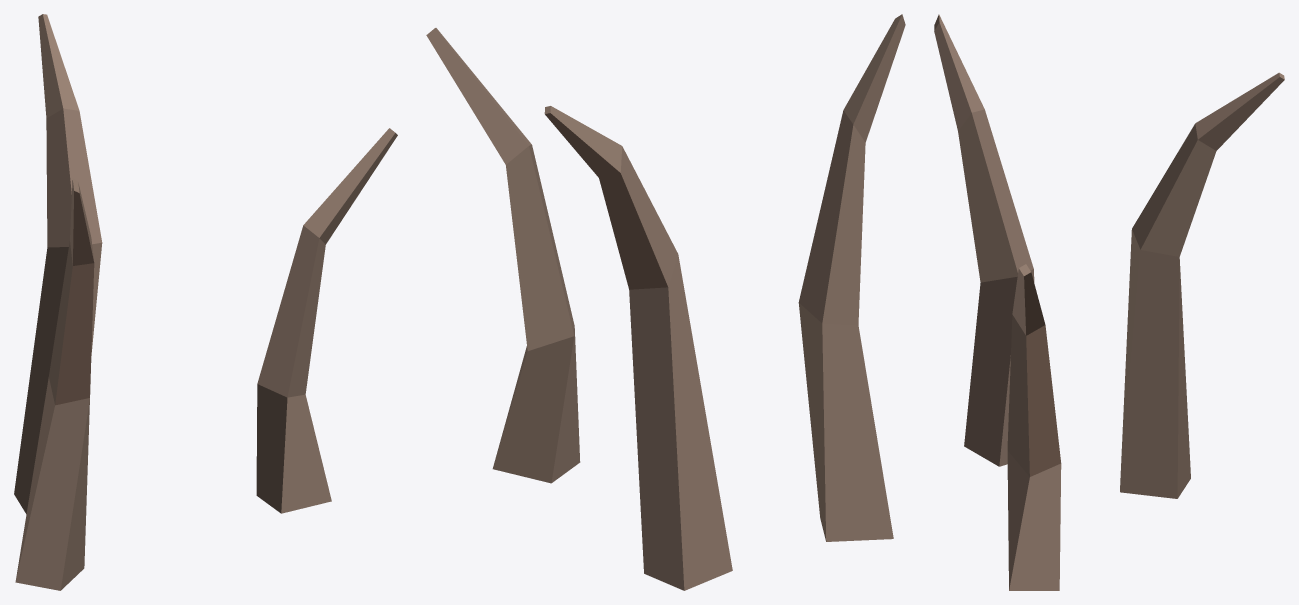
File: GrassWinter2_Alt4.fbx
3 views of the same model, side by side, from view 1: azimuth 30°, elevation 25°; view 2: azimuth 150°, elevation 25°; view 3: azimuth 270°, elevation 25° (orthographic). The views are drawn at different scales.
Visible parts, largest first — view 1: GrassWinter2_Alt4; view 2: GrassWinter2_Alt4; view 3: GrassWinter2_Alt4.
Part boxes in pixels (x1=…): GrassWinter2_Alt4: x1=14, y1=14, x2=397, y2=590; GrassWinter2_Alt4: x1=426, y1=14, x2=905, y2=590; GrassWinter2_Alt4: x1=934, y1=14, x2=1284, y2=590.
Bounding box in the file's own units: 0.3561 × 0.3746 × 0.2695.
